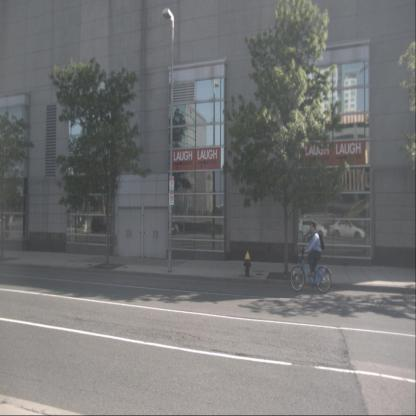vehicle-bicycle: (289, 221, 332, 297)
vehicle-car: (329, 218, 366, 241), (292, 218, 328, 240)
